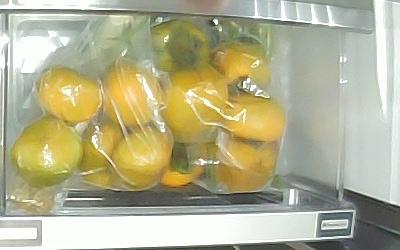persimmon_vinyl: (11, 117, 83, 187), (165, 65, 228, 135), (103, 64, 165, 126), (35, 65, 102, 122), (110, 127, 170, 187), (79, 120, 131, 188), (214, 140, 279, 192), (212, 38, 272, 94), (148, 21, 210, 74), (226, 93, 286, 142), (160, 139, 206, 186)
